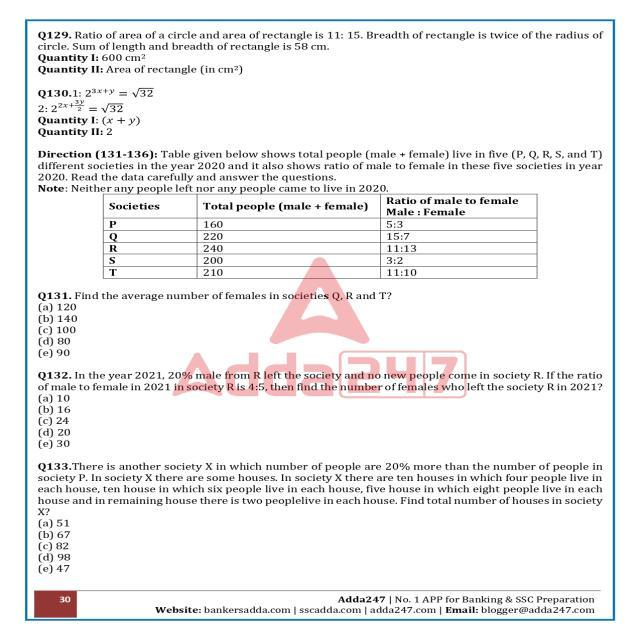Answer_Block: (30, 302, 605, 364), (32, 518, 608, 577), (32, 393, 608, 451)
Instruction: (30, 146, 605, 286)
Question_Answer_Block: (32, 459, 608, 576), (32, 366, 608, 452), (30, 284, 605, 363), (30, 81, 605, 142), (27, 26, 602, 79)
Question_Block: (30, 81, 605, 142), (29, 459, 604, 517), (27, 26, 602, 79), (32, 366, 608, 394), (30, 284, 605, 302)
Question_Paper_Area: (30, 27, 605, 586)
